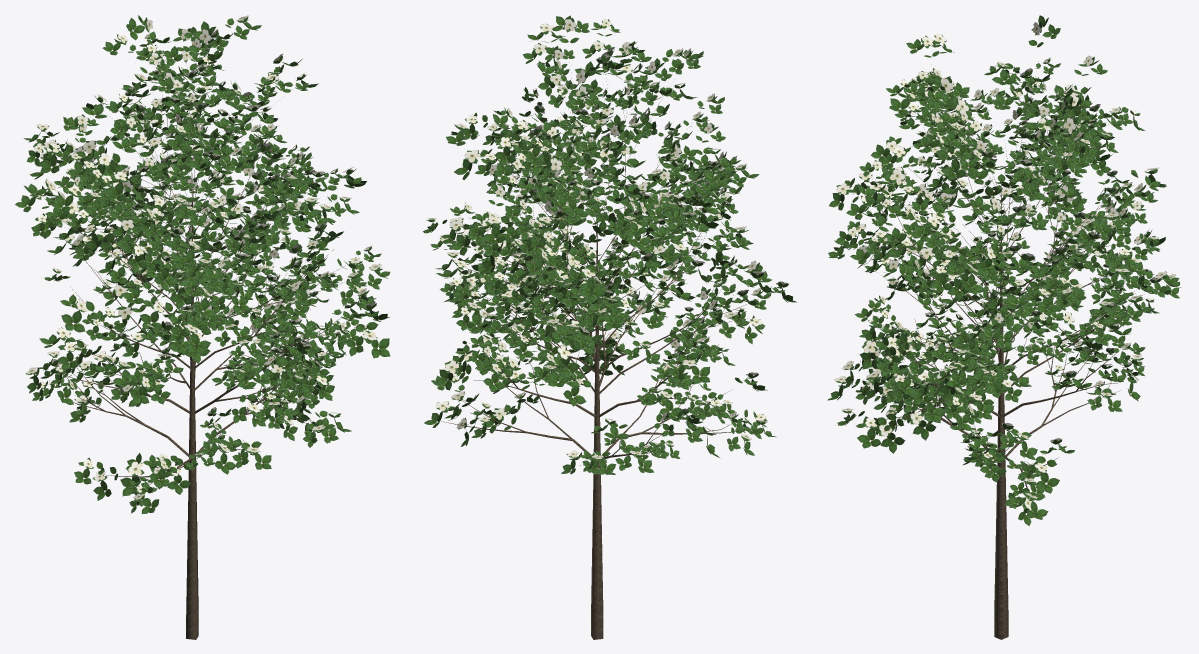
Rendered from hanamizuki_nocolor.fbx.
The picture shows the model from 3 angles, left to right: view 1: azimuth 30°, elevation 25°; view 2: azimuth 150°, elevation 25°; view 3: azimuth 270°, elevation 25°; orthographic projection.
Parts seen in each view (by area): view 1: Tree.001, 068.271, 068.006, 068.077, 068.151, 068.110, 068.127, 068.278, 068.199, 068.092, 068.349; view 2: Tree.001, 068.492, 068.098, 068.247, 068.414; view 3: Tree.001, 068.285, 068.426, 068.277, 068.038, 068.307, 068.176, 068.004, 068.041.
Boxes of the visible parts, x1,y1,x2,y2 form: Tree.001: [56, 49, 355, 639]; 068.271: [346, 322, 390, 358]; 068.006: [60, 294, 98, 332]; 068.077: [169, 319, 210, 354]; 068.151: [232, 441, 271, 469]; 068.110: [140, 295, 174, 330]; 068.127: [144, 251, 175, 291]; 068.278: [301, 367, 334, 400]; 068.199: [127, 369, 159, 403]; 068.092: [120, 453, 156, 496]; 068.349: [200, 439, 236, 474]; Tree.001: [441, 62, 748, 639]; 068.492: [564, 264, 607, 301]; 068.098: [668, 352, 710, 383]; 068.247: [540, 337, 580, 376]; 068.414: [435, 354, 471, 390]; Tree.001: [864, 96, 1138, 639]; 068.285: [1019, 456, 1059, 493]; 068.426: [859, 329, 889, 369]; 068.277: [872, 413, 905, 453]; 068.038: [970, 242, 1004, 277]; 068.307: [926, 75, 969, 107]; 068.176: [856, 416, 890, 448]; 068.004: [946, 262, 984, 295]; 068.041: [902, 403, 936, 440].
Size of the model in its own units: 216 by 375 by 202.
3 materials, 3 textured.
